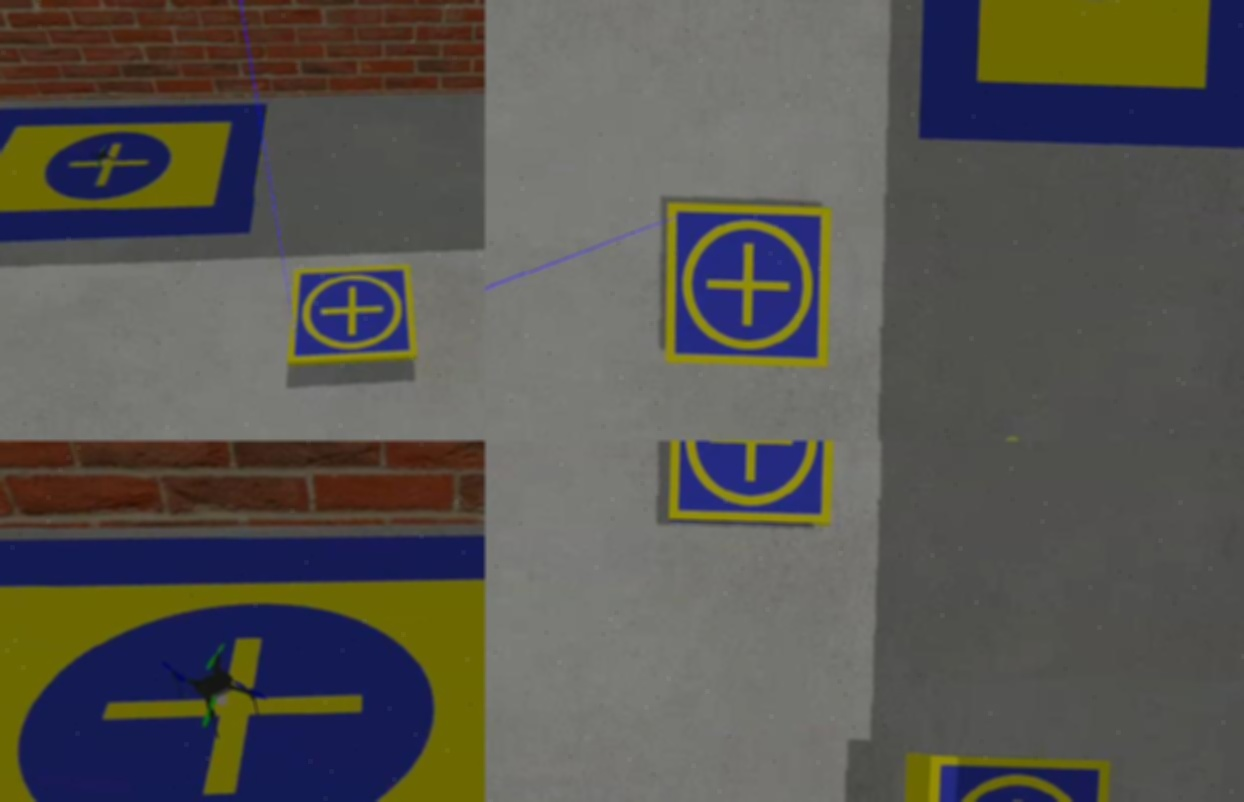large_base: (0, 498, 486, 802), (911, 1, 1244, 158), (0, 85, 268, 267)
small_base: (659, 202, 840, 376), (282, 263, 420, 369), (667, 441, 836, 527), (915, 751, 1114, 802)
